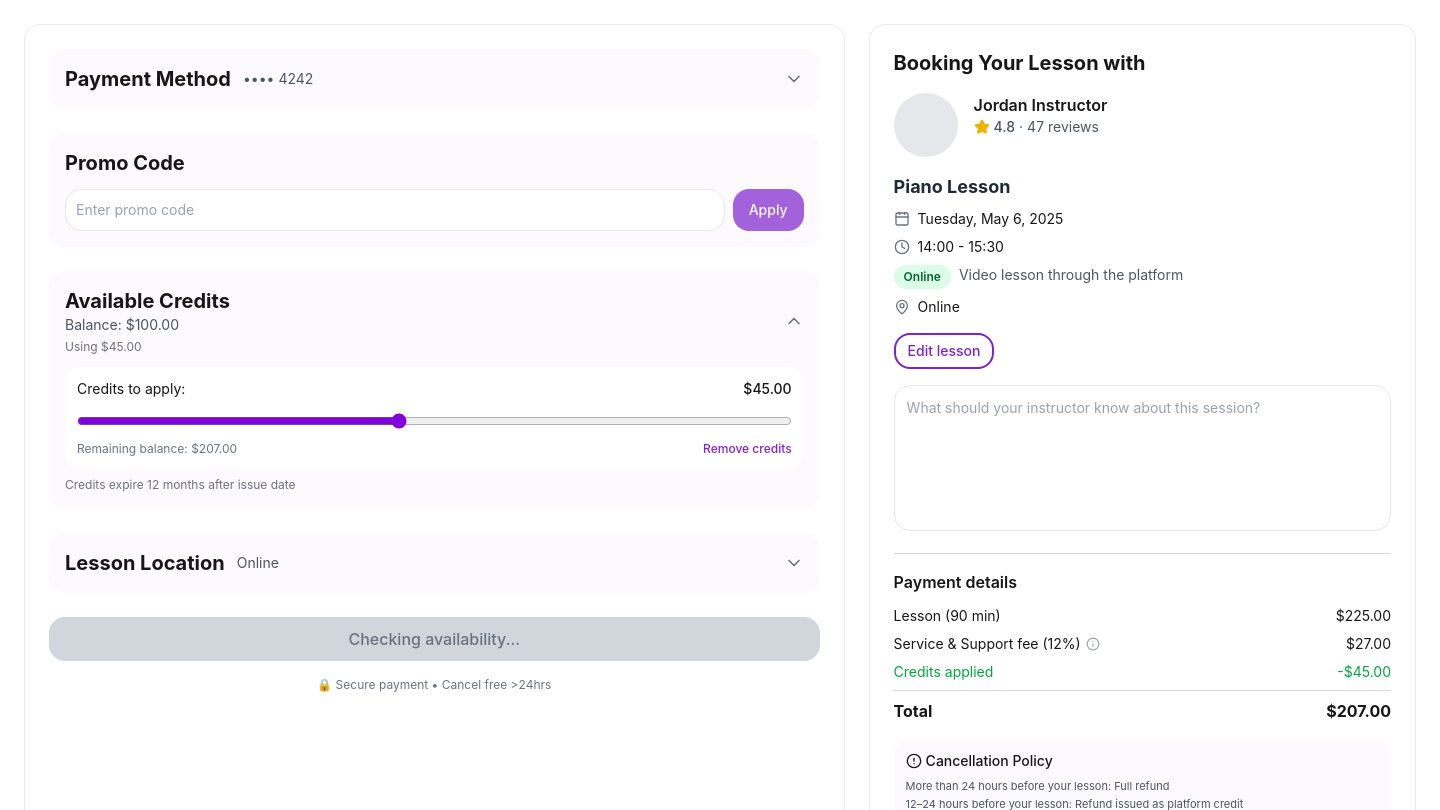
Test: Payment summary preview › renders preview line items and updates totals when credits are removed
expect the text "Lesson (90 min)" is shown: met, box [894,606,1001,626]
expect the text "$225.00" is shown: met, box [1336,606,1391,626]
Set the slider to "0" at x=85, y=421, box [77,413,792,429]
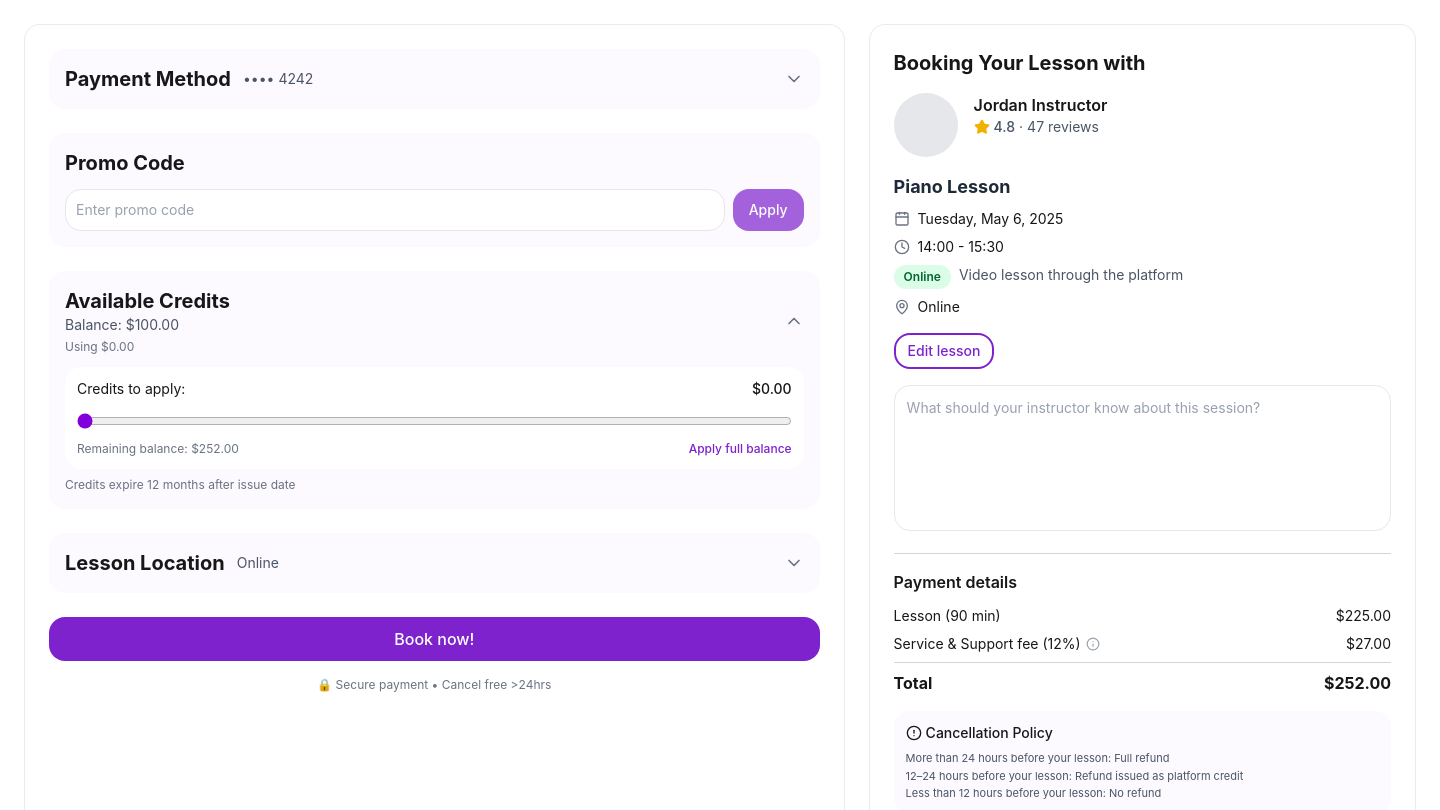
expect the text "Service & Support fee (12%)" is shown: met, box [894,634,1081,654]
expect the text "$252.00" is shown: met, box [1324,671,1391,695]
expect the text "-$45.00" is gone: met
